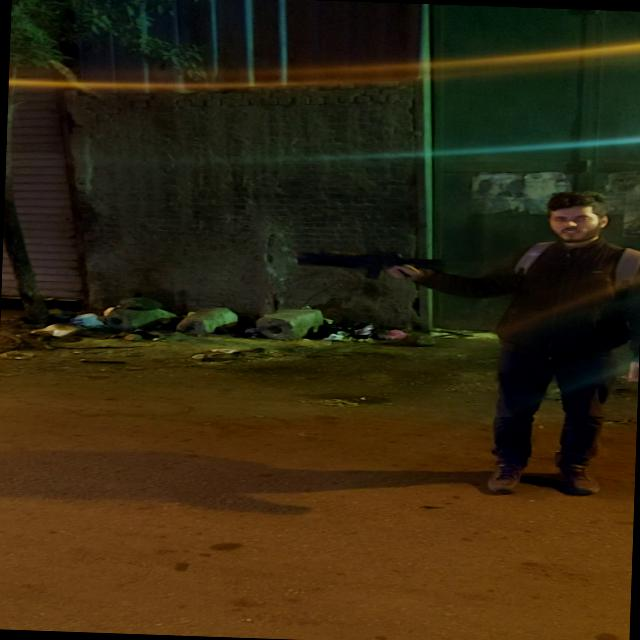long weapon: (267, 238, 479, 300)
